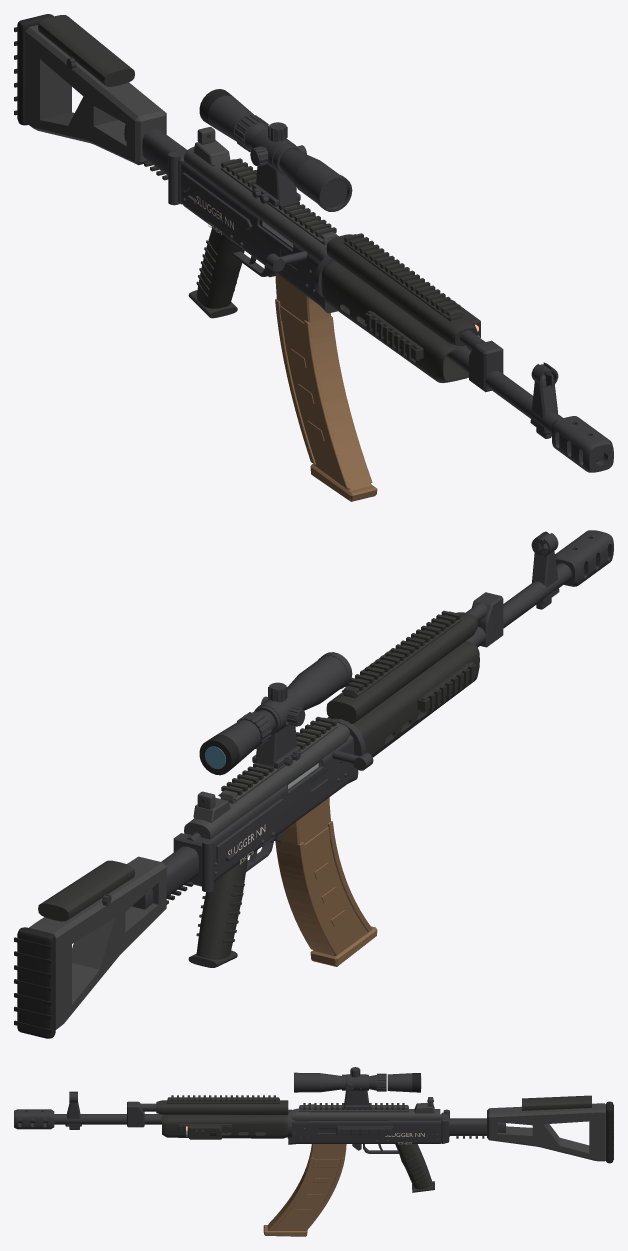
The model's file is slugger.glb.
3 views of the same model, one above another, from view 1: azimuth 30°, elevation 25°; view 2: azimuth 150°, elevation 25°; view 3: azimuth 270°, elevation 25° (orthographic). The views are drawn at different scales.
Visible parts, largest first — view 1: Body, opt_scope; view 2: Body, opt_scope; view 3: Body, opt_scope, opt_laser.
Part boxes in pixels (x1,y1,x2,y2): Body: (14, 14, 613, 501); opt_scope: (199, 89, 352, 211); Body: (14, 530, 613, 1038); opt_scope: (199, 652, 352, 775); Body: (14, 1091, 613, 1236); opt_scope: (294, 1067, 421, 1109); opt_laser: (186, 1124, 221, 1139).
Size of the model in its own units: 0.111 by 0.3399 by 1.12.
